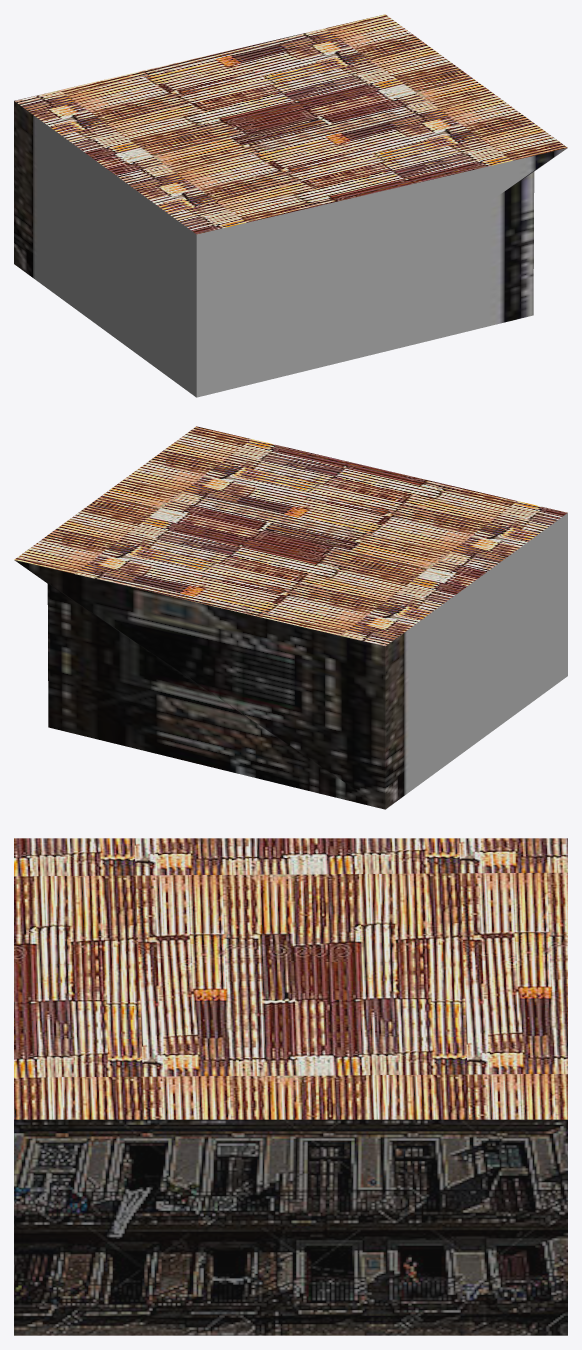
File: Edificioladogaleria2.fbx
3 renders of one model, top to bottom at view 1: azimuth 30°, elevation 25°; view 2: azimuth 150°, elevation 25°; view 3: azimuth 270°, elevation 25°, orthographic. The views are drawn at different scales.
Visible parts, largest first — view 1: Cube; view 2: Cube; view 3: Cube.
Boxes of the visible parts, x1,y1,x2,y2 form: Cube: (14,14,567,397); Cube: (14,426,567,809); Cube: (14,838,567,1335).
Bounding box in the file's own units: 1193 × 501 × 1016.
2 materials, 2 textured.
